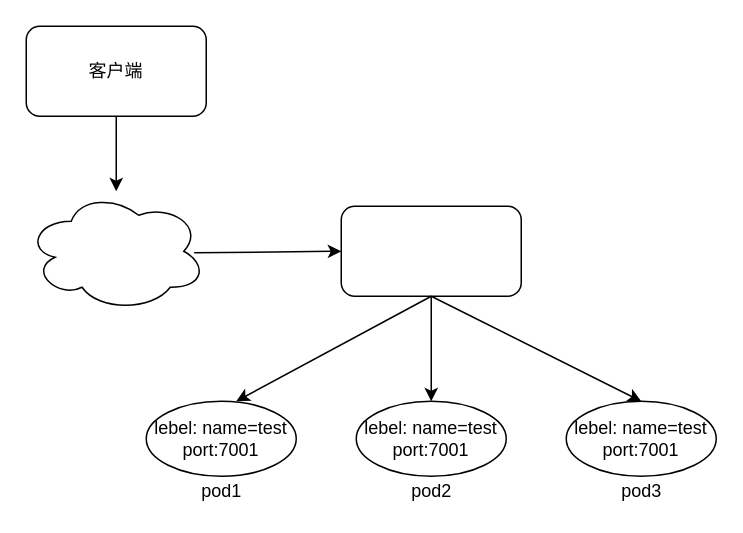
The diagram is 743 pixels wide and 533 high, and some of its shapes have lost their labels. The centre of each missing label's shape, as x and y in pixels:
clusterIp iptabels: (x=115, y=250)
kube-proxy: (x=430, y=250)
